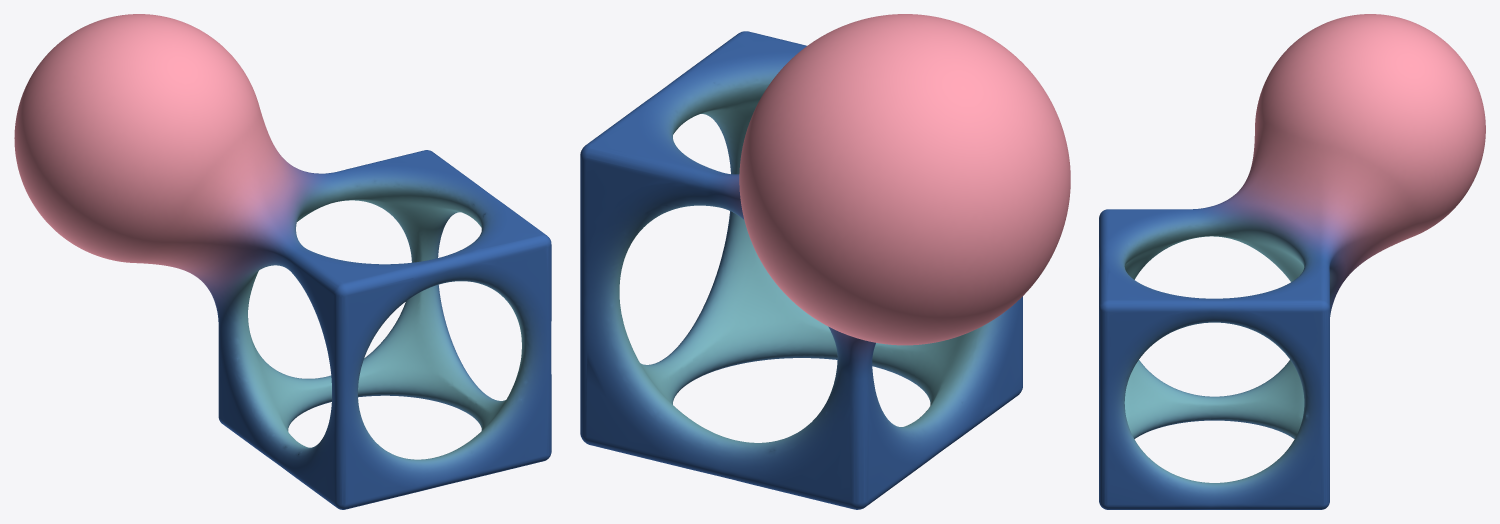
Rendered from modeltest.gltf.
3 renders of one model, left to right at view 1: azimuth 30°, elevation 25°; view 2: azimuth 150°, elevation 25°; view 3: azimuth 270°, elevation 25°, orthographic. The views are drawn at different scales.
Visible parts, largest first — view 1: Area (1); view 2: Area (1); view 3: Area (1).
Part boxes in pixels (x1,y1,x2,y2): Area (1): (14,14,551,509); Area (1): (580,14,1070,509); Area (1): (1099,14,1485,509).
Bounding box in the file's own units: 70 × 70 × 67.
Materials: 1 (1 with a texture image).
